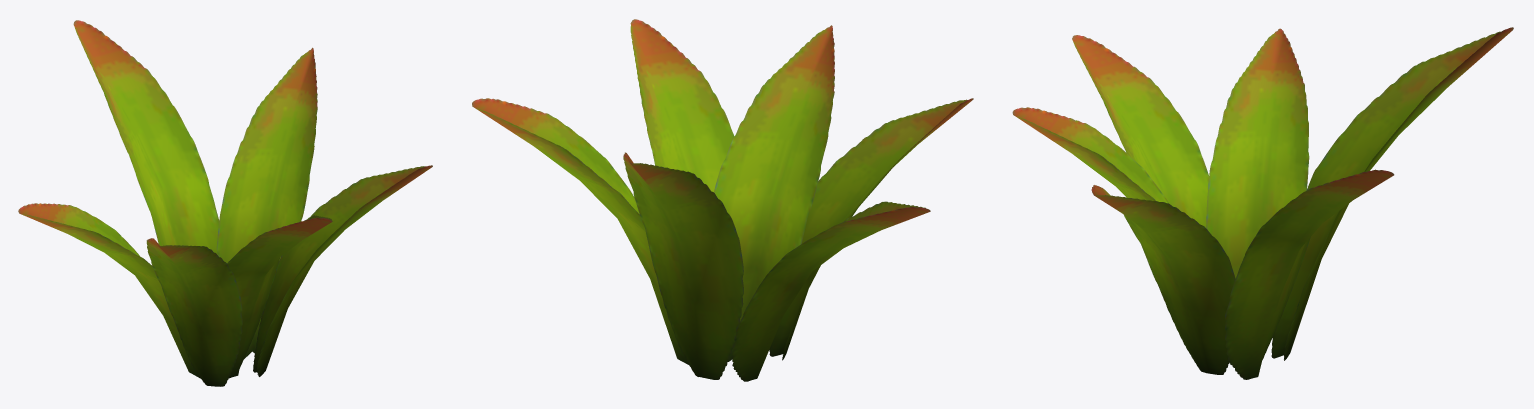
Rendered from Plant_1.glb.
3 views of the same model, side by side, from view 1: azimuth 30°, elevation 25°; view 2: azimuth 150°, elevation 25°; view 3: azimuth 270°, elevation 25° (orthographic). The views are drawn at different scales.
Parts seen in each view (by area): view 1: Plant_1; view 2: Plant_1; view 3: Plant_1.
Boxes of the visible parts, <box> form: Plant_1: <box>18,20,432,386</box>; Plant_1: <box>472,19,973,381</box>; Plant_1: <box>1012,27,1513,379</box>.
Size of the model in its own units: 1.27 by 1.01 by 1.39.
Materials: 1 (1 with a texture image).
